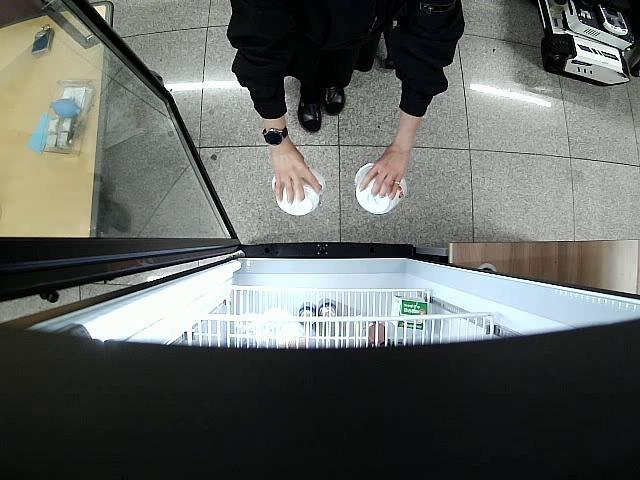09_yukGaeJang: (353, 161, 408, 214), (268, 170, 322, 216)
